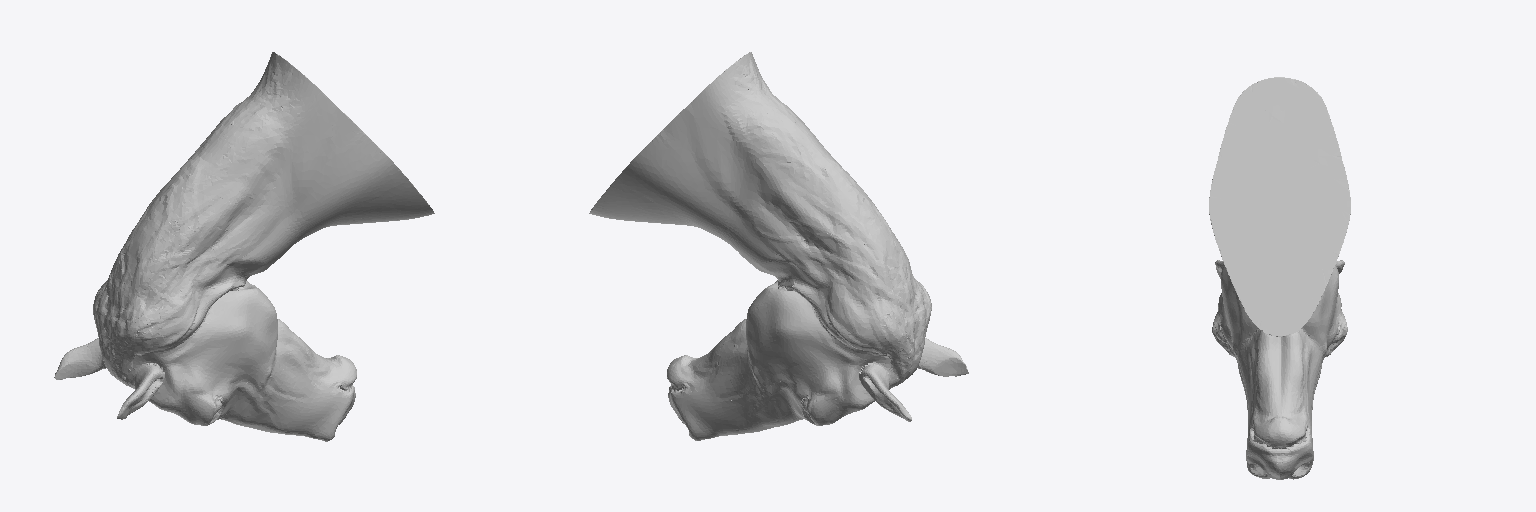
File: sam_Horse.obj
3 views of the same model, side by side, from view 1: azimuth 30°, elevation 25°; view 2: azimuth 150°, elevation 25°; view 3: azimuth 270°, elevation 25° (orthographic).
Visible parts, largest first — view 1: ZBrush_defualt_group; view 2: ZBrush_defualt_group; view 3: ZBrush_defualt_group.
Part boxes in pixels (x1,y1,x2,y2): ZBrush_defualt_group: (54,52,434,441); ZBrush_defualt_group: (589,52,968,440); ZBrush_defualt_group: (1209,77,1350,479).
Size of the model in its own units: 1.9 by 2.02 by 0.6771.